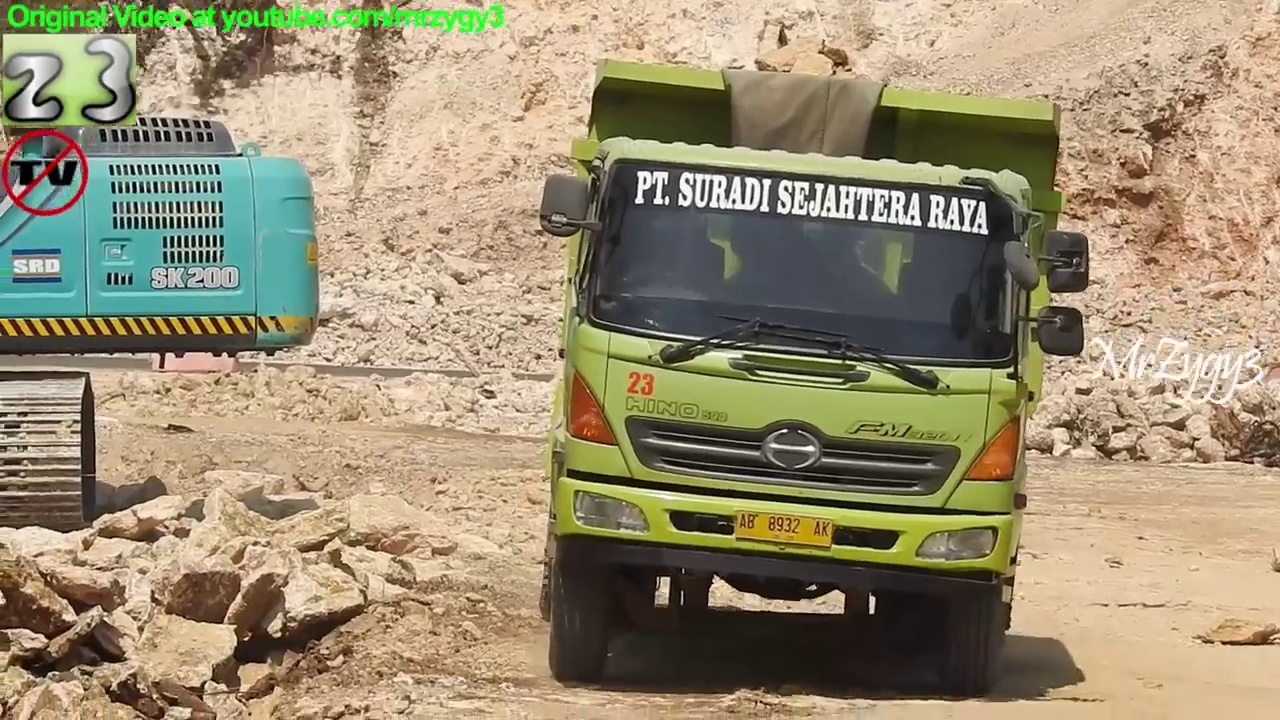excavator: (1, 1, 321, 539)
truck: (537, 57, 1093, 696)
